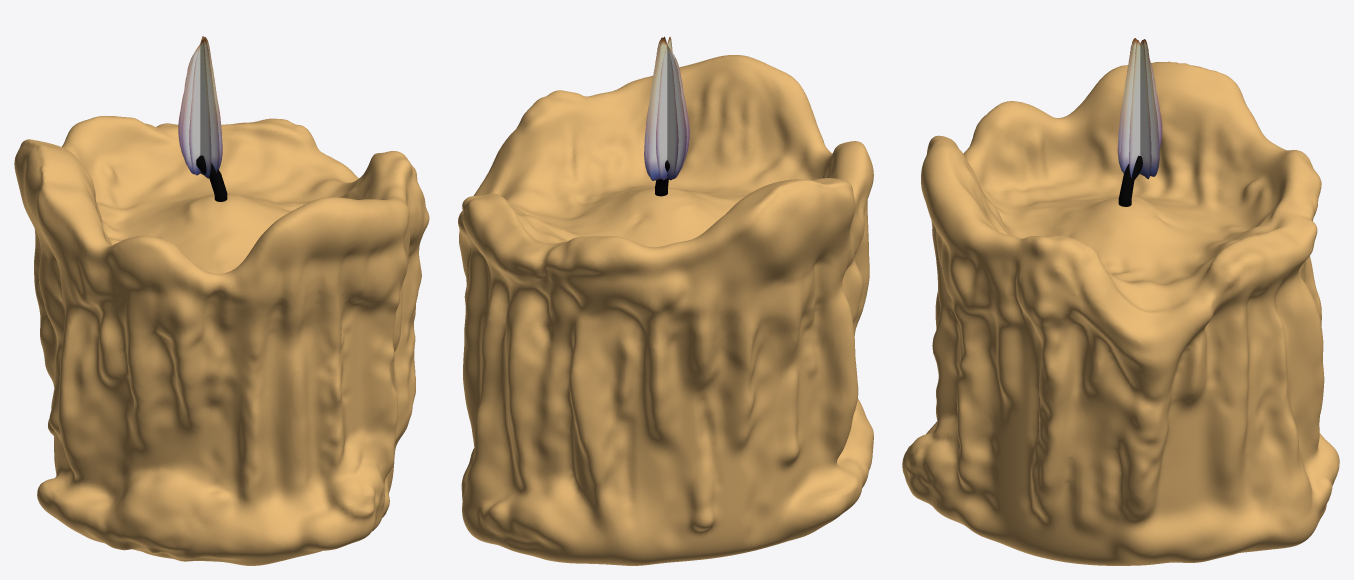
File: candle3.fbx
The picture shows the model from 3 angles, left to right: view 1: azimuth 30°, elevation 25°; view 2: azimuth 150°, elevation 25°; view 3: azimuth 270°, elevation 25°; orthographic projection. The views are drawn at different scales.
Parts seen in each view (by area): view 1: Cylinder, candle flame, candle flame.003, candle flame.004, candle flame.015, candle flame.010, Cylinder.001; view 2: Cylinder, candle flame, candle flame.010, candle flame.013, candle flame.015, candle flame.003; view 3: Cylinder, candle flame.003, candle flame.010, candle flame.013, candle flame.004, candle flame, Cylinder.001.
Boxes of the visible parts, x1,y1,x2,y2 form: Cylinder: [14, 115, 429, 565]; candle flame: [200, 39, 211, 178]; candle flame.003: [189, 36, 203, 175]; candle flame.004: [203, 39, 219, 173]; candle flame.015: [181, 37, 206, 174]; candle flame.010: [178, 38, 222, 169]; Cylinder.001: [196, 155, 227, 201]; Cylinder: [458, 55, 873, 565]; candle flame: [656, 37, 672, 180]; candle flame.010: [663, 36, 678, 180]; candle flame.013: [647, 39, 666, 180]; candle flame.015: [661, 37, 686, 179]; candle flame.003: [644, 38, 689, 176]; Cylinder: [902, 61, 1339, 565]; candle flame.003: [1140, 40, 1151, 179]; candle flame.010: [1129, 40, 1140, 178]; candle flame.013: [1143, 39, 1159, 176]; candle flame.004: [1120, 39, 1137, 173]; candle flame: [1117, 38, 1162, 172]; Cylinder.001: [1118, 155, 1142, 206].
Size of the model in its own units: 7069 by 8686 by 7312.
3 materials, 1 textured.
